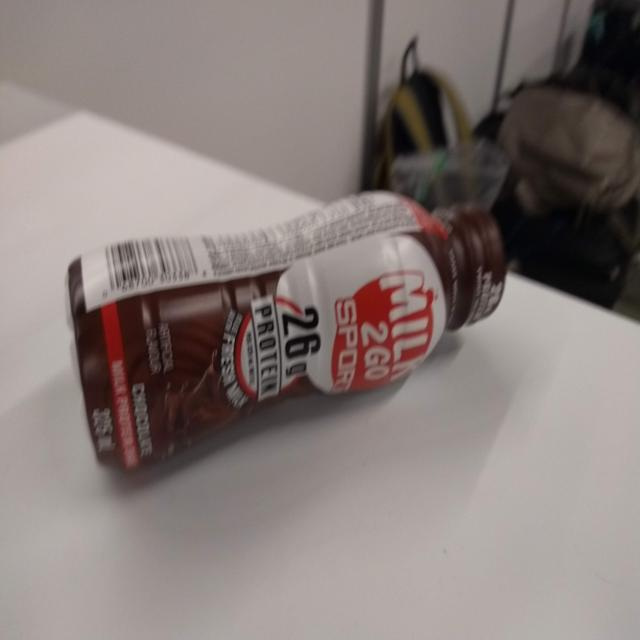chocolate_drink: (60, 192, 509, 480)
